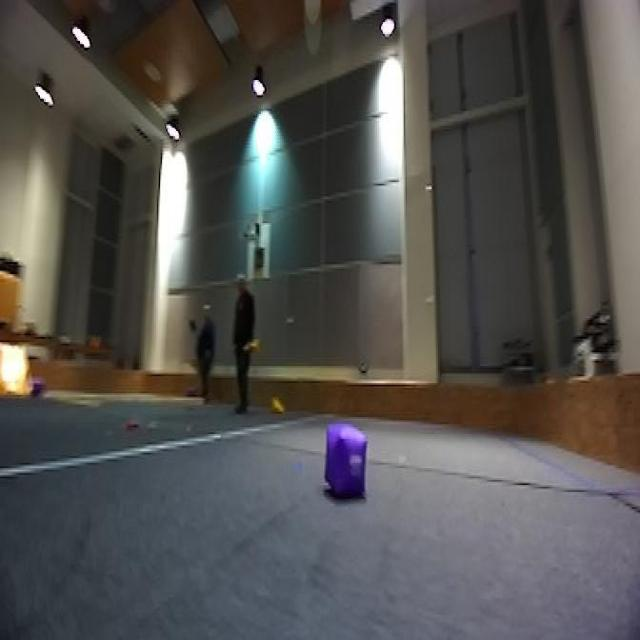frc_cone: (243, 333, 265, 358), (266, 394, 286, 416)
frc_cube: (323, 422, 368, 501), (28, 376, 46, 400)
